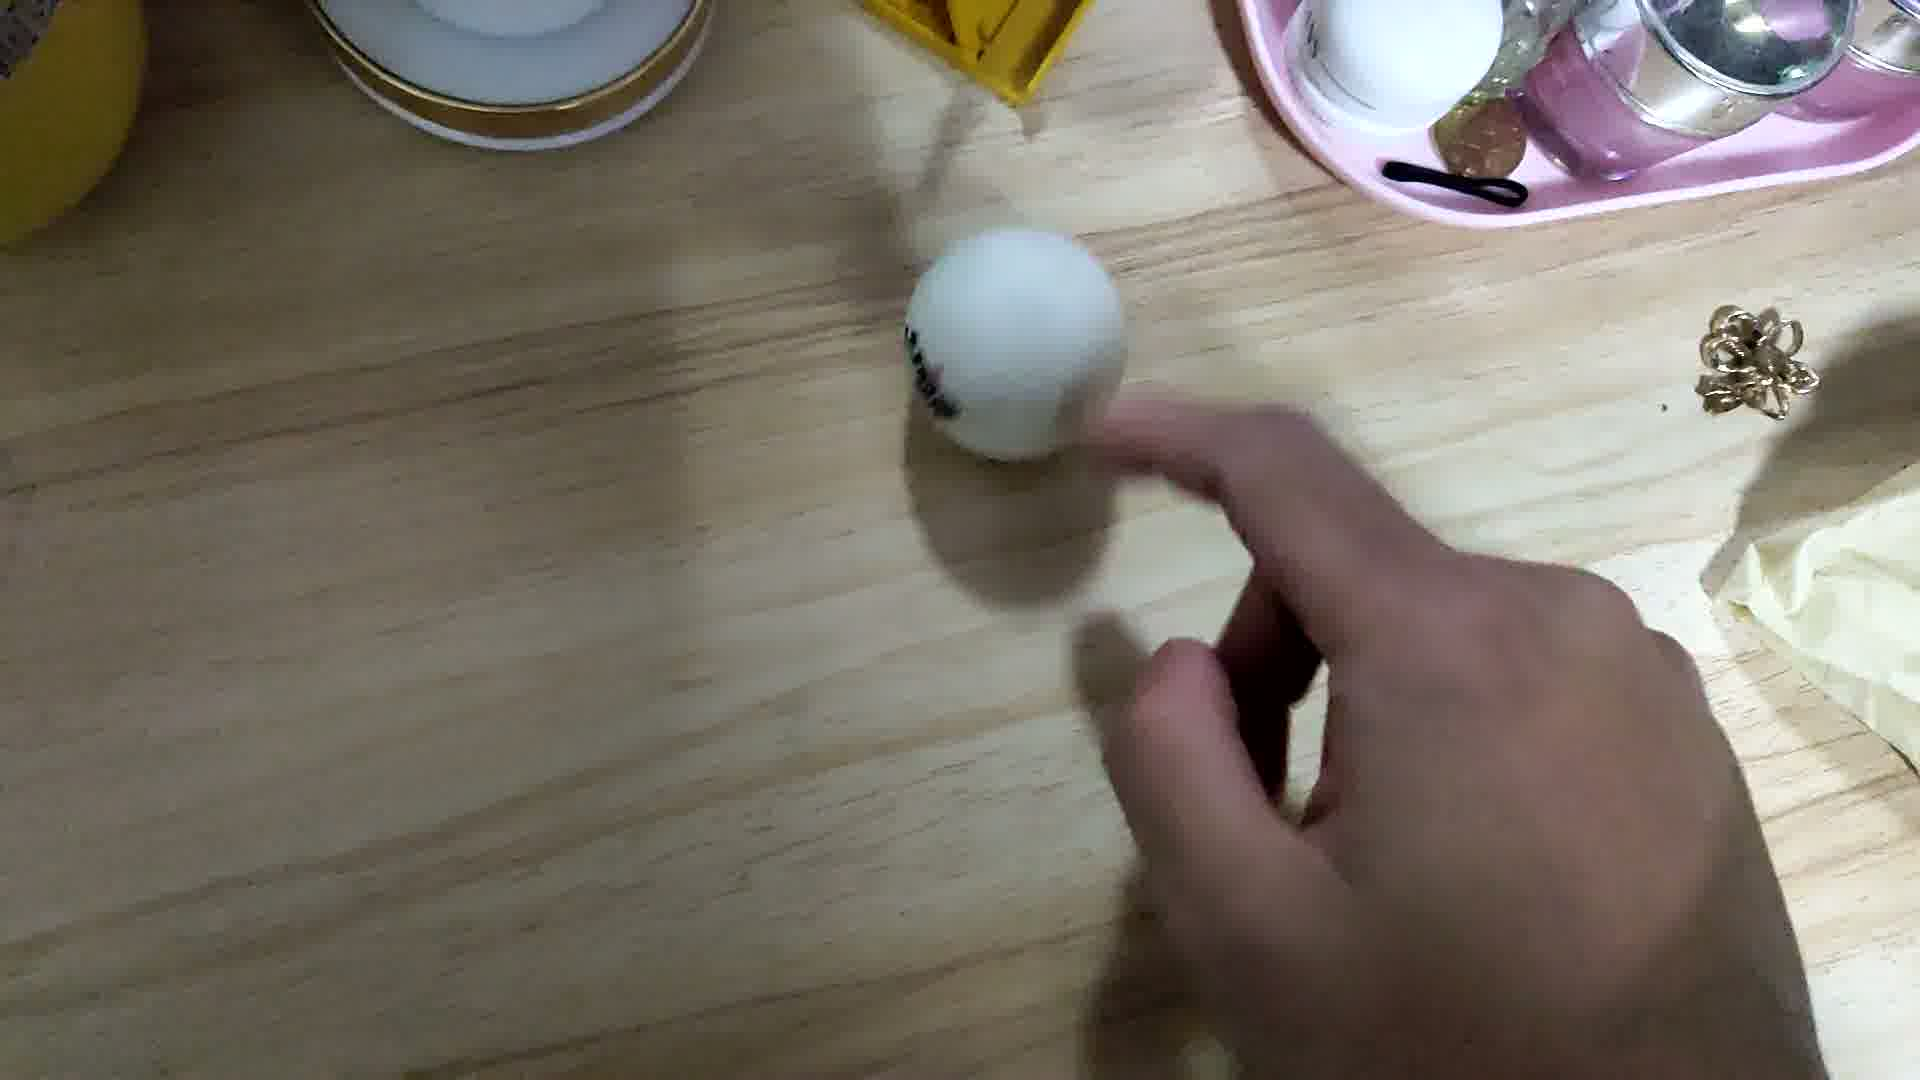Ball: (905, 224, 1135, 462)
